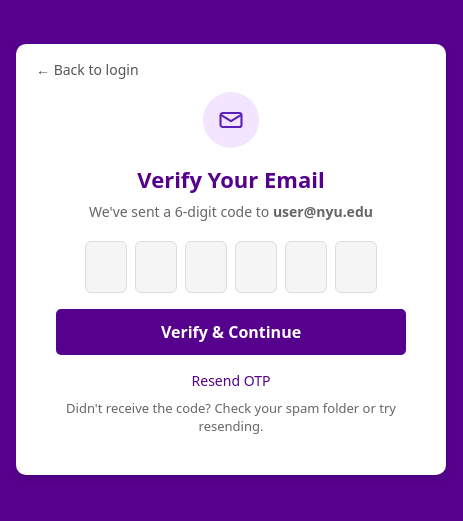
Test: VerifyEmail page › shows backend error message when verification fails
Type "1" into the 1st field at [106, 266], box [85,240,127,292]
Type "1" into the 2nd field at [156, 266], box [135,240,177,292]
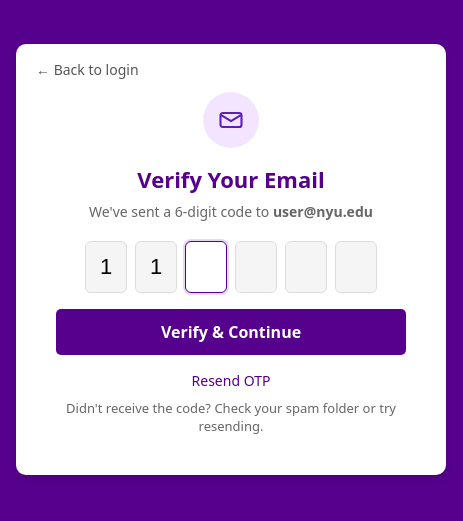
Type "1" into the 3rd field at [206, 266], box [185,240,227,292]
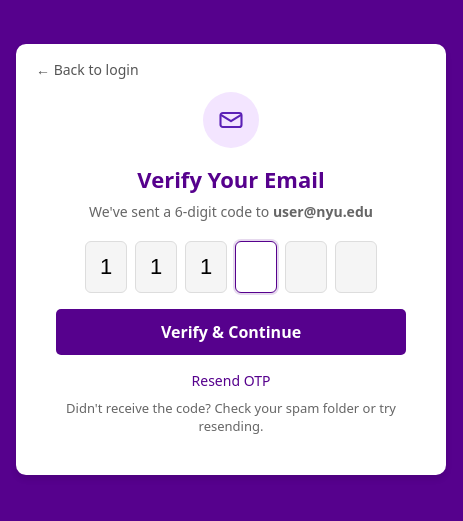
Type "1" into the 4th field at [256, 266], box [235,240,277,292]
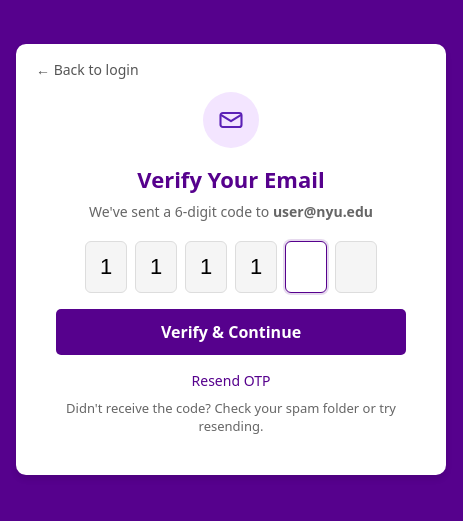
Type "1" into the 5th field at [306, 266], box [285,240,327,292]
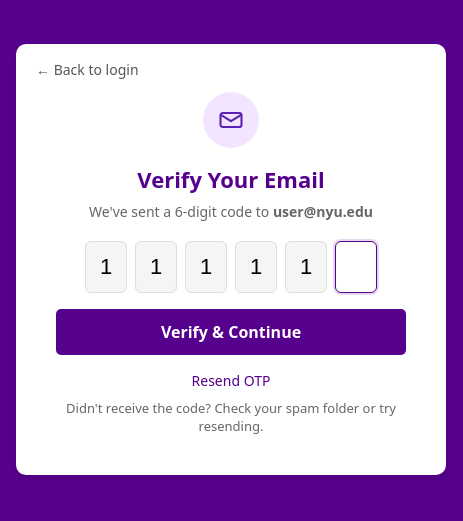
Type "1" into the 6th field at [356, 266], box [335,240,377,292]
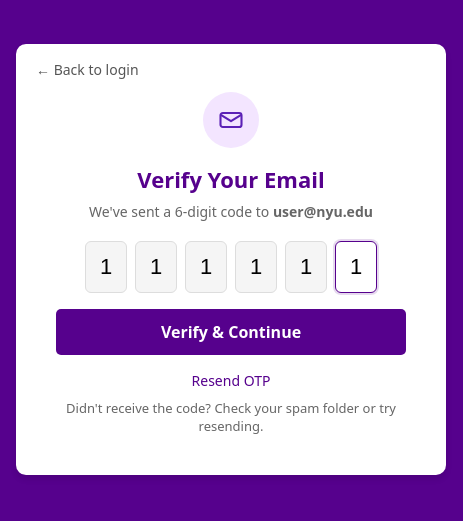
Click the button "Verify & Continue" at [231, 332], box [56,308,406,354]
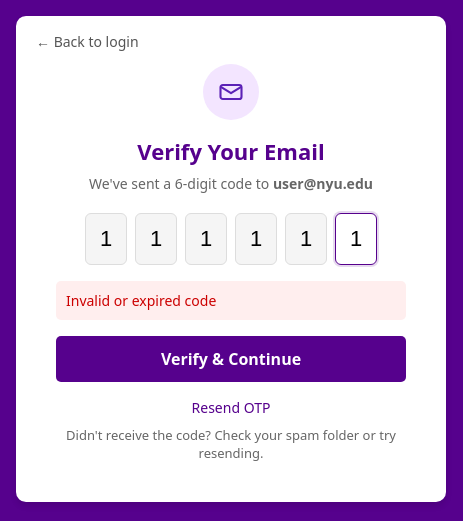
Check: the text "Invalid or expired code" is shown, box [56,281,406,320]
